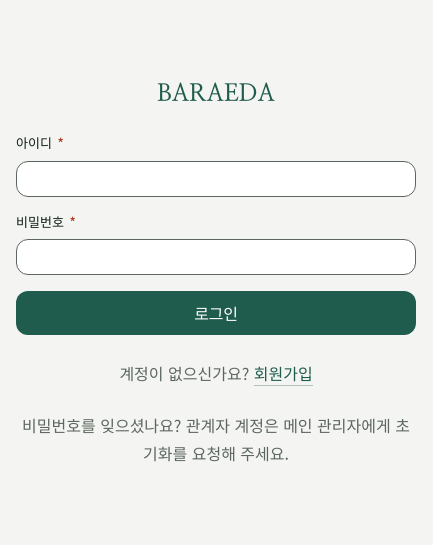
Test: LoginForm — 에러 코드별 분기 › AUTH_ACCOUNT_BLOCKED 는 차단 안내(UF-X-04)를 인라인으로 보여준다
This screenshot has width=433, height=545.
Type "staffA" into the field labelled "아이디 *". click: (216, 179)
box: [16,161,416,197]
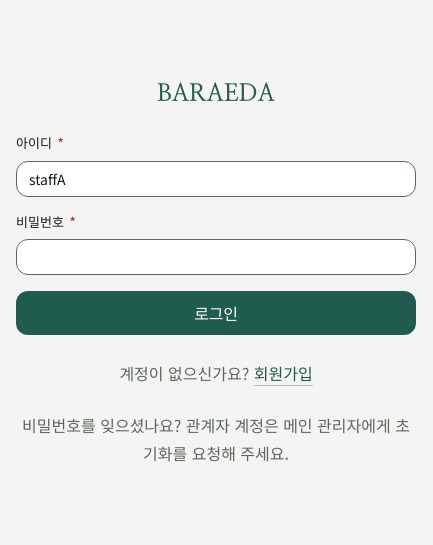
Type "password" into the password field labelled "비밀번호 *". click: (216, 257)
box: [16,239,416,275]
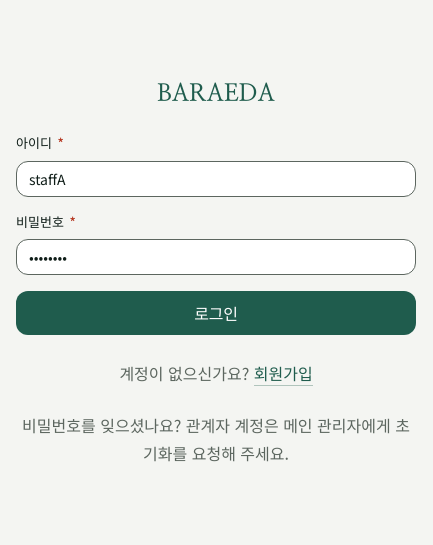
Submit the form, box [16,134,416,335]
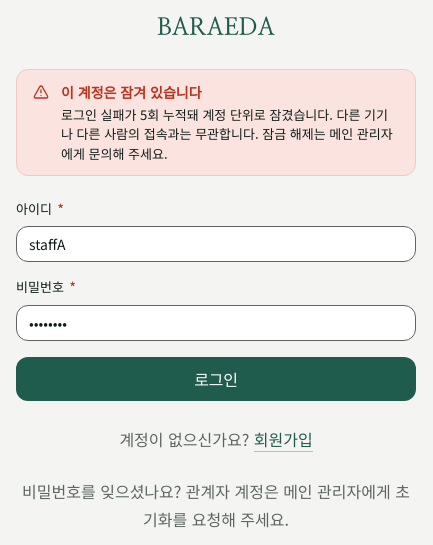
Check: the button "로그인" is shown, box [16,356,416,400]
Check: the text "이 계정은 잠겨 있습니다" is shown, box [61,82,202,102]
Check: the text "다른 기기나 다른 사람의 접속과는" is shown, box [61,105,393,163]
